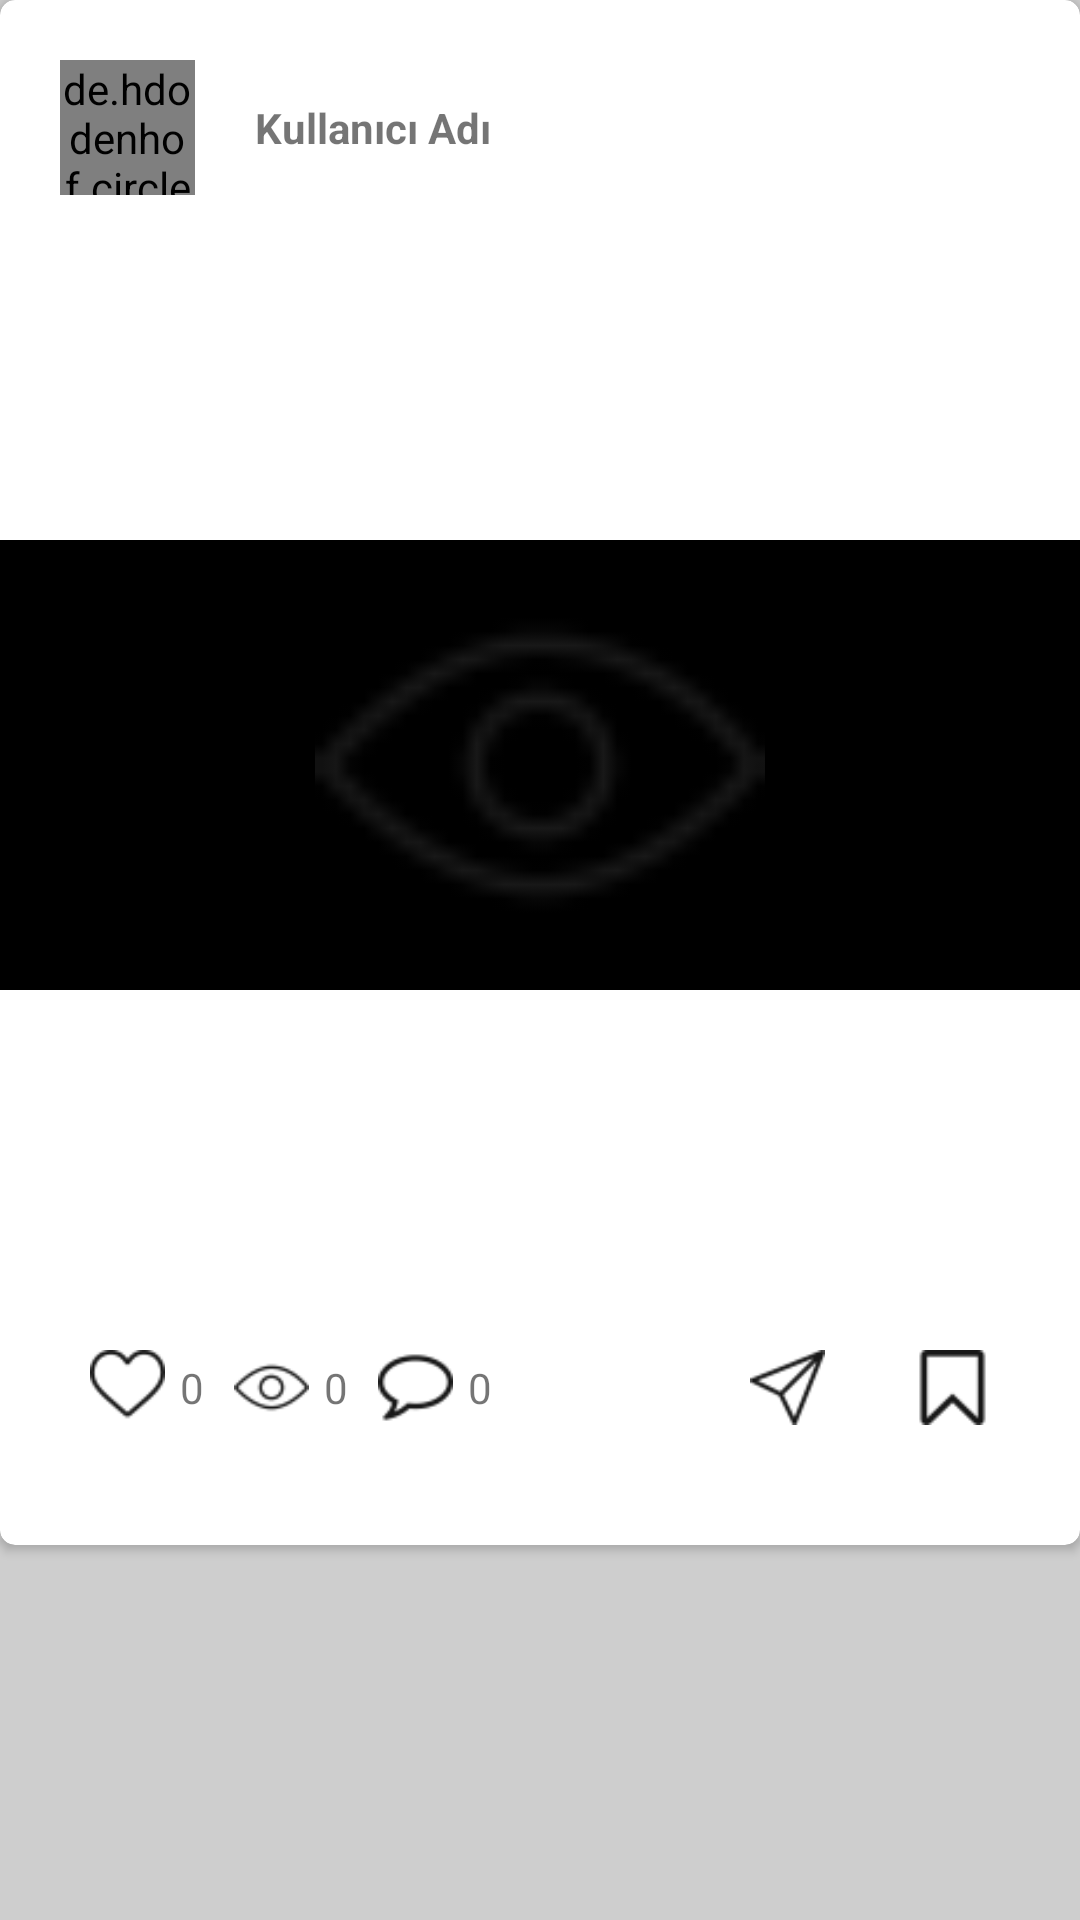

Icons on this 1080*1920 Android screen, each with its box as (left=x1, top=y1, right=x2, bottom=y2):
bookmark: (left=919, top=1350, right=986, bottom=1425)
gonder: (left=750, top=1350, right=825, bottom=1425)
like: (left=90, top=1350, right=165, bottom=1418)
yorum: (left=378, top=1354, right=453, bottom=1421)
